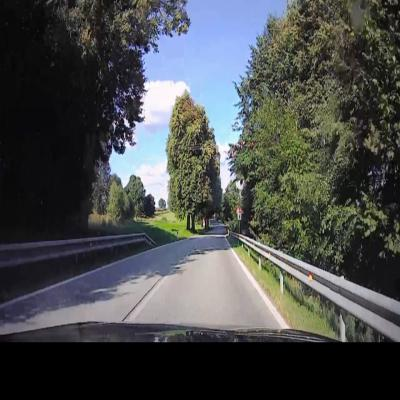clear-road: (0, 236, 285, 335)
